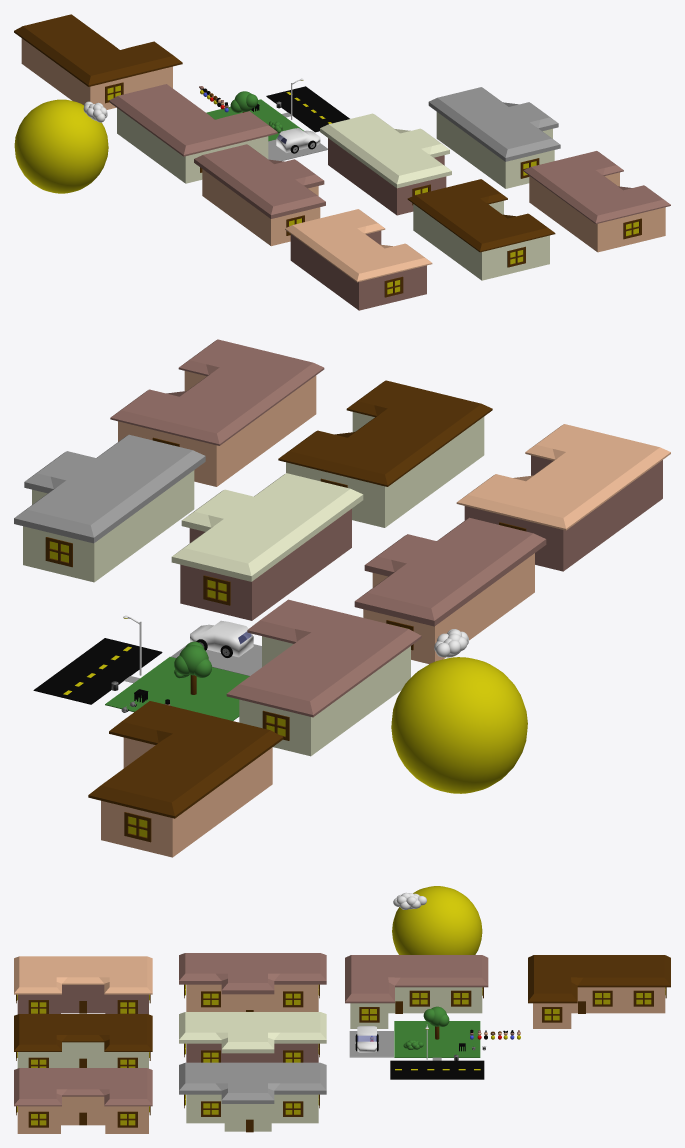
The model's file is 3hourjam.fbx.
3 renders of one model, top to bottom at view 1: azimuth 30°, elevation 25°; view 2: azimuth 150°, elevation 25°; view 3: azimuth 270°, elevation 25°, orthographic. The views are drawn at different scales.
Parts seen in each view (by area): view 1: house1_base, house5_base, house7_base, house4_base, house3_base, house8_base, house2_base, house6_base, sun, street, lawn, car_body (+2 smaller); view 2: house4_base, house3_base, house6_base, house8_base, house5_base, house1_base, house7_base, house2_base, sun, lawn, street, car_body (+2 smaller); view 3: house8_base, house7_base, house4_base, house3_base, house2_base, house1_base, house5_base, house6_base, sun, lawn, street, driveway (+9 smaller).
Boxes of the visible parts, bbox=[...] form: house1_base: bbox=[285, 209, 432, 310]; house5_base: bbox=[407, 179, 555, 280]; house7_base: bbox=[523, 151, 670, 252]; house4_base: bbox=[14, 14, 182, 109]; house3_base: bbox=[109, 84, 277, 183]; house8_base: bbox=[428, 87, 560, 188]; house2_base: bbox=[194, 144, 325, 246]; house6_base: bbox=[320, 113, 451, 215]; sun: bbox=[14, 99, 108, 193]; street: bbox=[266, 86, 349, 132]; lawn: bbox=[206, 99, 303, 141]; car_body: bbox=[276, 128, 320, 152]; house4_base: bbox=[88, 701, 283, 857]; house3_base: bbox=[226, 599, 421, 756]; house6_base: bbox=[171, 473, 363, 620]; house8_base: bbox=[14, 434, 205, 582]; house5_base: bbox=[278, 380, 492, 527]; house1_base: bbox=[456, 424, 670, 571]; house7_base: bbox=[110, 339, 324, 486]; house2_base: bbox=[354, 517, 546, 664]; sun: bbox=[391, 657, 527, 793]; lawn: bbox=[105, 657, 249, 720]; street: bbox=[33, 638, 162, 704]; car_body: bbox=[190, 620, 253, 657]; house8_base: bbox=[179, 1062, 326, 1131]; house7_base: bbox=[14, 1068, 152, 1133]; house4_base: bbox=[528, 955, 670, 1028]; house3_base: bbox=[345, 955, 488, 1028]; house2_base: bbox=[179, 953, 326, 1011]; house1_base: bbox=[14, 956, 152, 1014]; house5_base: bbox=[14, 1014, 152, 1068]; house6_base: bbox=[179, 1012, 326, 1062]; sun: bbox=[392, 886, 482, 954]; lawn: bbox=[394, 1021, 480, 1057]; street: bbox=[390, 1060, 484, 1079]; driveway: bbox=[349, 1031, 393, 1057].
Size of the model in its own units: 11747 by 2397 by 16210.
